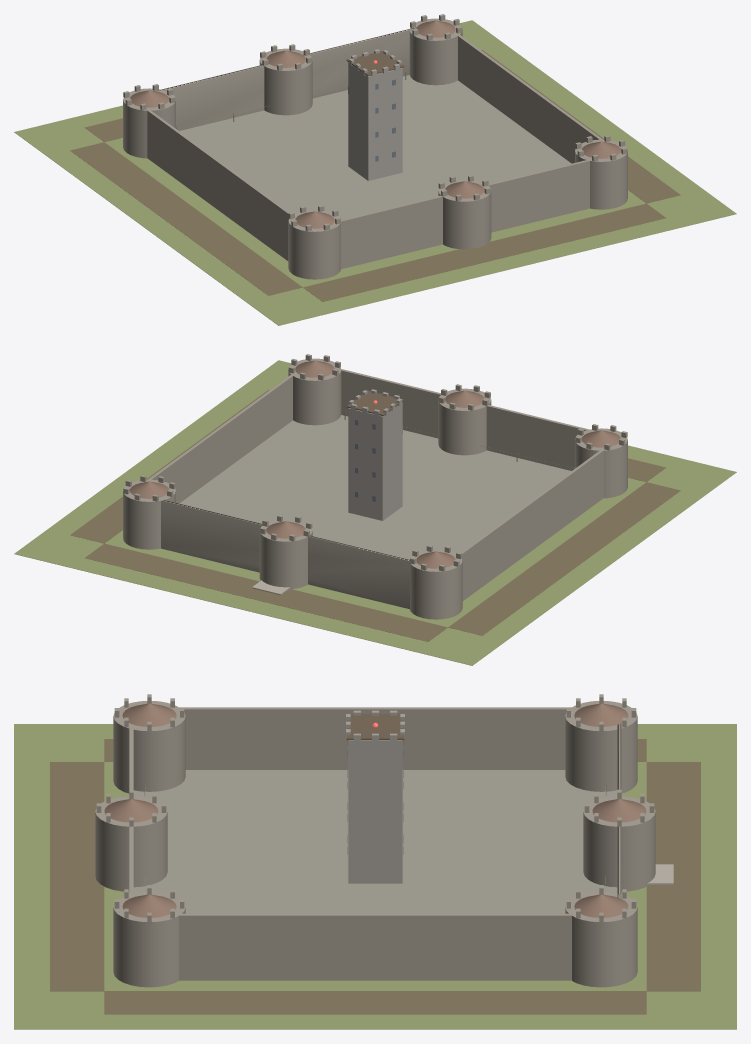
Rendered from fort_sarran.glb.
The picture shows the model from 3 angles, top to bottom: view 1: azimuth 30°, elevation 25°; view 2: azimuth 150°, elevation 25°; view 3: azimuth 270°, elevation 25°; orthographic projection. The views are drawn at different scales.
Visible parts, largest first — view 1: foundation, outer_ground, body (×7), wall_s, wall_n, wall_w, moat_s, moat_w, wall_e, moat_e, roof (×2), moat_n; view 2: foundation, outer_ground, body (×7), wall_n, wall_w, wall_s, moat_w, moat_n, wall_e, moat_e, roof (×2), moat_s; view 3: foundation, outer_ground, body (×7), wall_e, wall_w, moat_e, moat_s, moat_n, roof (×7), wall_s, wall_n.
Boxes of the visible parts, x1,y1,x2,y2 form: foundation: [179, 75, 571, 219]; outer_ground: [14, 20, 736, 325]; body (×7): [123, 18, 627, 279]; wall_s: [334, 160, 589, 269]; wall_n: [154, 27, 416, 130]; wall_w: [146, 108, 296, 260]; moat_s: [303, 203, 665, 301]; moat_w: [70, 142, 302, 295]; wall_e: [454, 31, 602, 163]; moat_e: [481, 50, 680, 203]; roof (×2): [346, 50, 484, 198]; moat_n: [85, 118, 122, 141]; foundation: [179, 415, 571, 559]; outer_ground: [14, 360, 736, 665]; body (×7): [123, 358, 627, 619]; wall_n: [161, 500, 416, 609]; wall_w: [454, 448, 604, 600]; wall_s: [334, 367, 596, 470]; moat_w: [448, 482, 680, 635]; moat_n: [85, 543, 447, 641]; wall_e: [148, 372, 296, 503]; moat_e: [70, 390, 269, 543]; roof (×2): [266, 390, 404, 538]; moat_s: [628, 458, 665, 481]; foundation: [133, 770, 617, 913]; outer_ground: [14, 724, 736, 1029]; body (×7): [95, 701, 655, 987]; wall_e: [131, 913, 619, 980]; wall_w: [169, 707, 581, 769]; moat_e: [104, 991, 646, 1014]; moat_s: [50, 762, 104, 991]; moat_n: [646, 762, 700, 991]; roof (×7): [104, 703, 646, 917]; wall_s: [129, 723, 133, 898]; wall_n: [617, 723, 621, 898].
Bounding box in the file's own units: 80 × 18.8 × 80.
